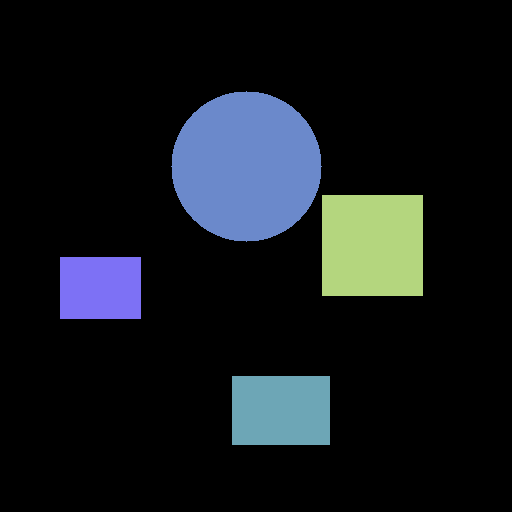circle: (171, 91, 321, 241)
rectangle: (232, 376, 329, 444), (60, 257, 140, 318)
square: (322, 195, 422, 295)
